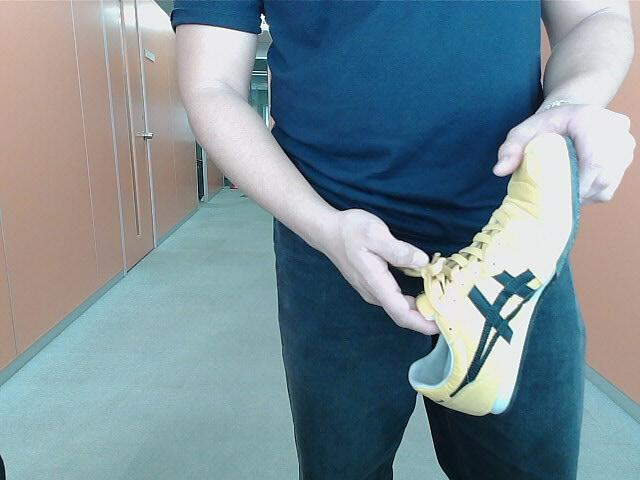Shoes: (408, 125, 578, 424)
